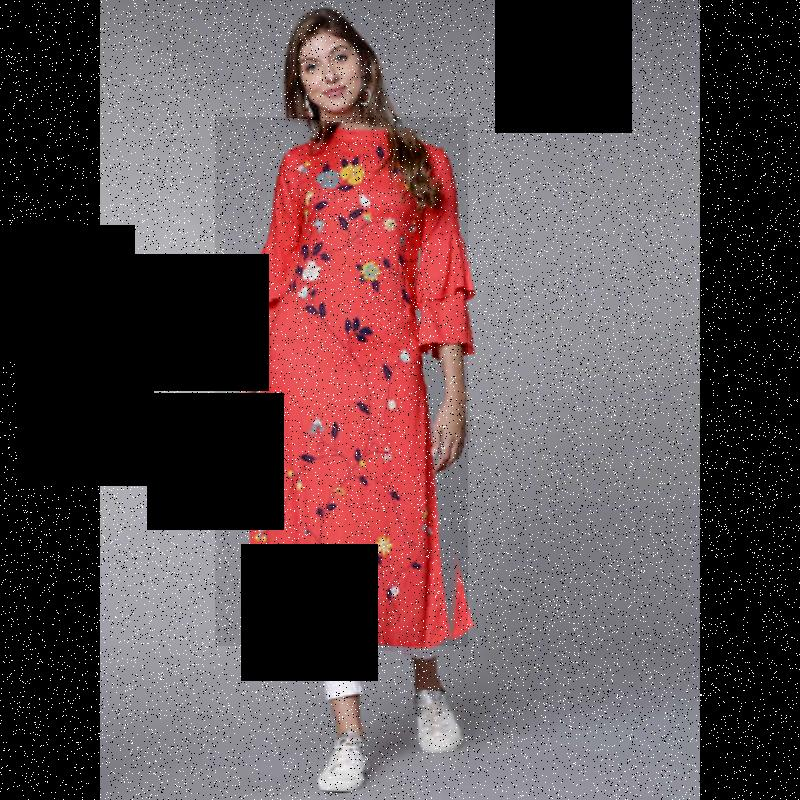Kurta: (216, 117, 468, 646)
